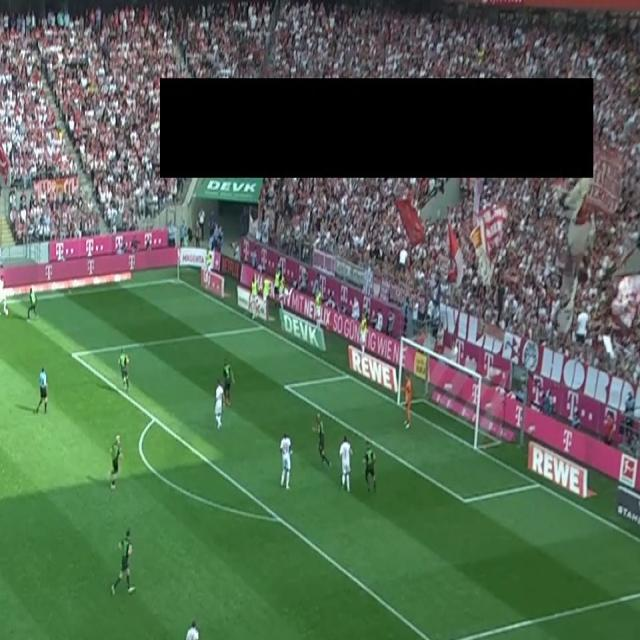ball: (5, 308, 9, 316)
